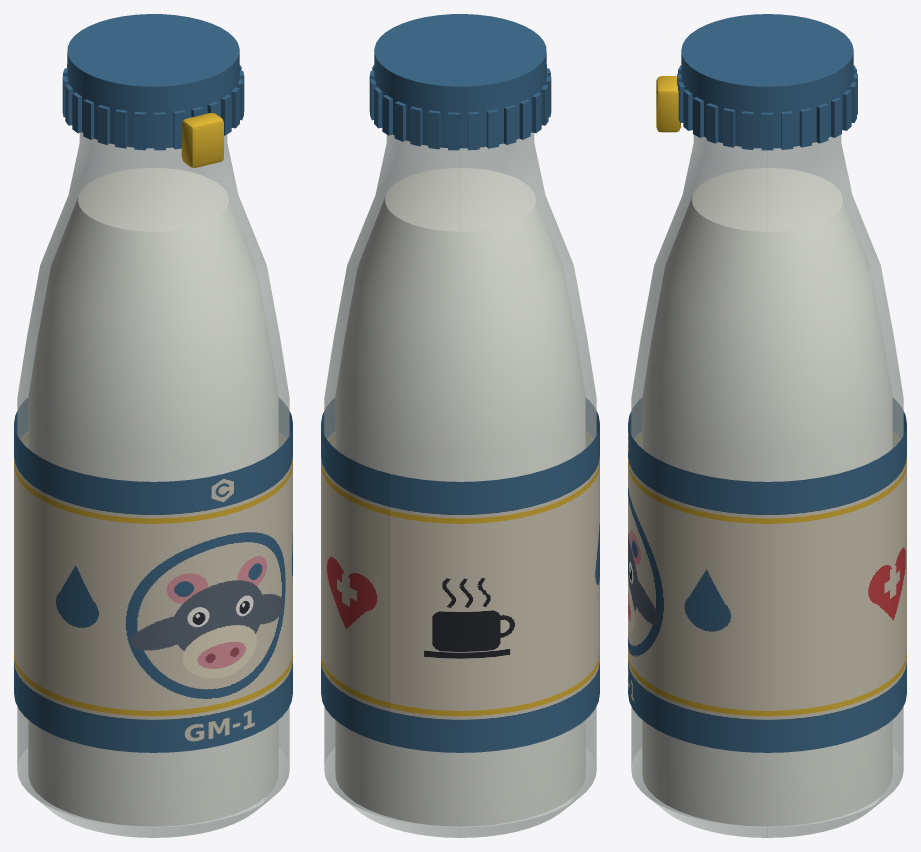
The model's file is grazer_milk.glb.
3 renders of one model, left to right at view 1: azimuth 30°, elevation 25°; view 2: azimuth 150°, elevation 25°; view 3: azimuth 270°, elevation 25°, orthographic.
Visible parts, largest first — view 1: Bottle; view 2: Bottle; view 3: Bottle.
Boxes of the visible parts, bbox=[...] form: Bottle: bbox=[14, 14, 292, 837]; Bottle: bbox=[321, 14, 599, 837]; Bottle: bbox=[628, 14, 906, 837].
Bounding box in the file's own units: 0.0634 × 0.1855 × 0.0634.
5 materials, 1 textured.
